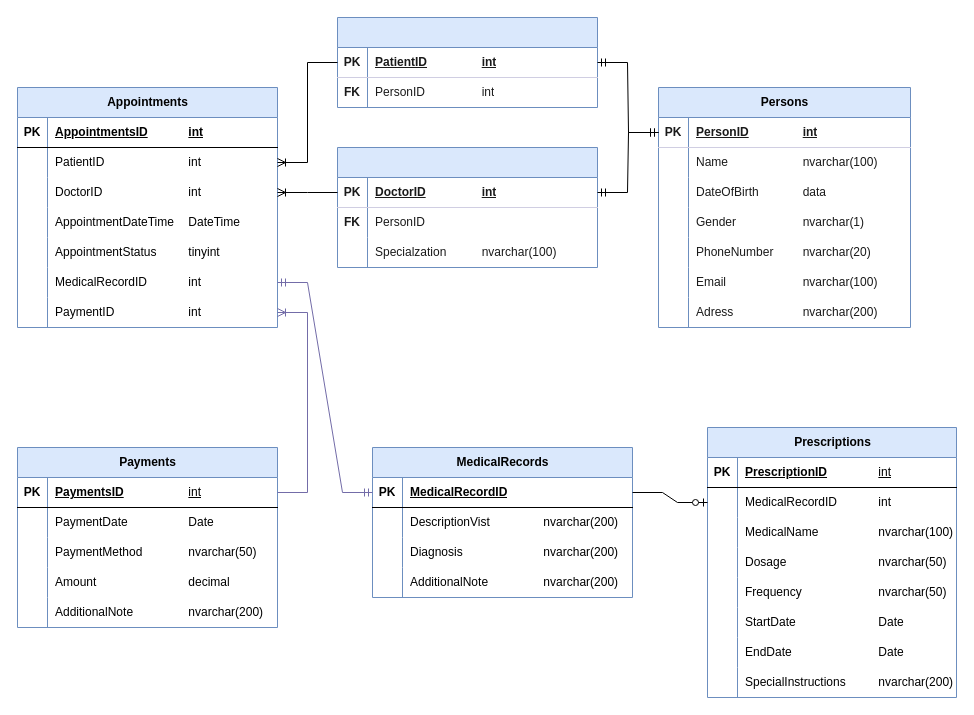
The diagram is 974 pixels wide and 715 high, and some of its shapes have lost their labels. The shapes that lost their labels are listed below. From the top down, each one's box as (x1, y1, x2, y2) in pixels, then its label:
(336, 16, 598, 108): Patients
(336, 146, 598, 268): Doctors
